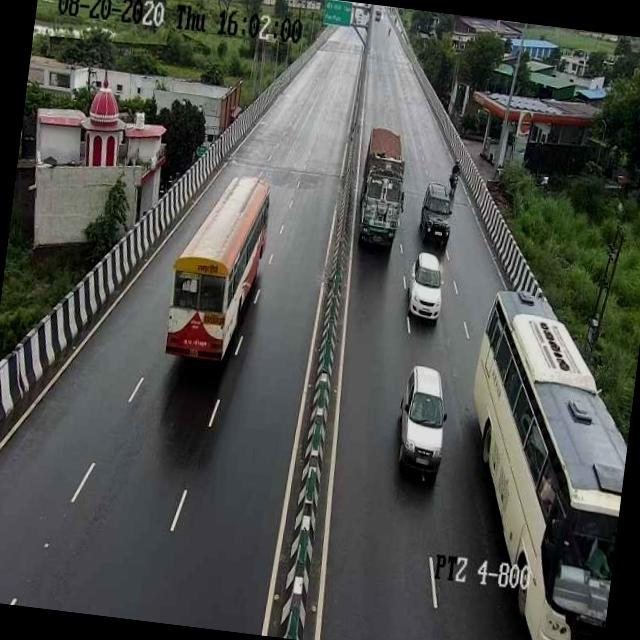car: (384, 357, 456, 489), (399, 242, 450, 330), (412, 178, 458, 250)
